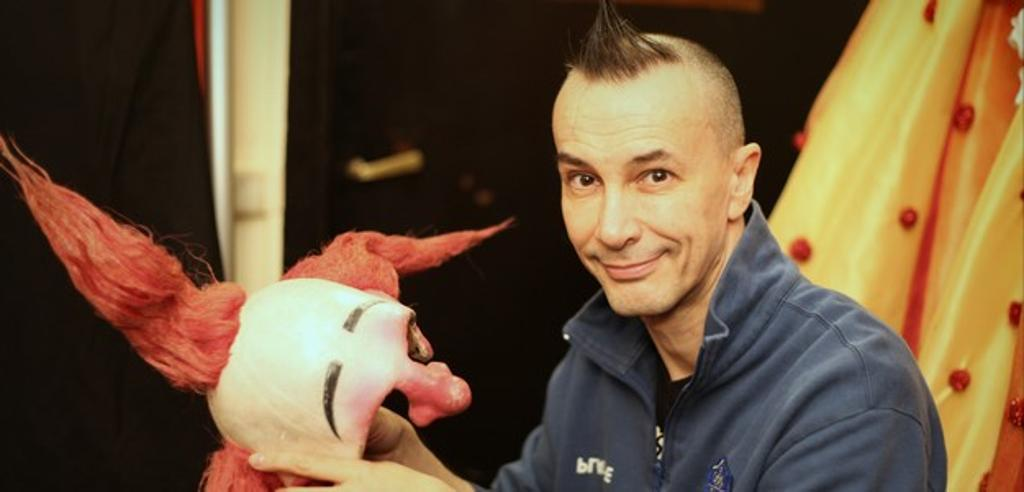face: (553, 75, 733, 315)
